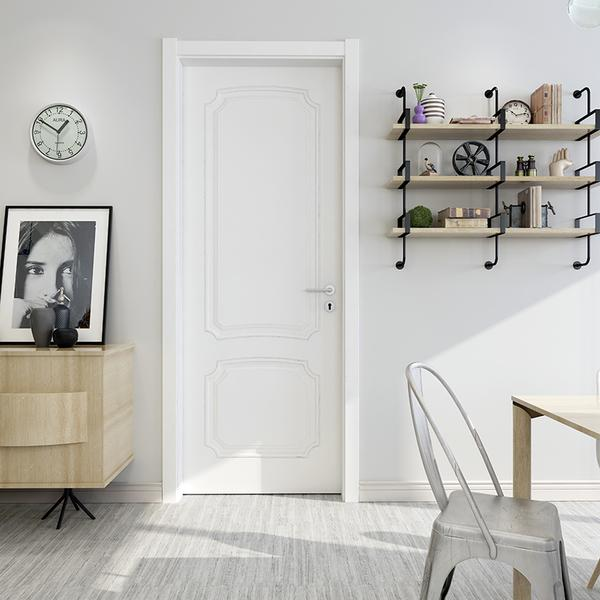door: (181, 63, 345, 496)
